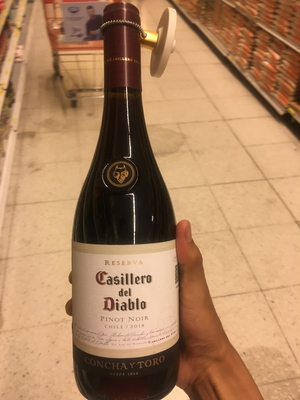casillero del diablo pinot noir: (67, 14, 203, 399)
